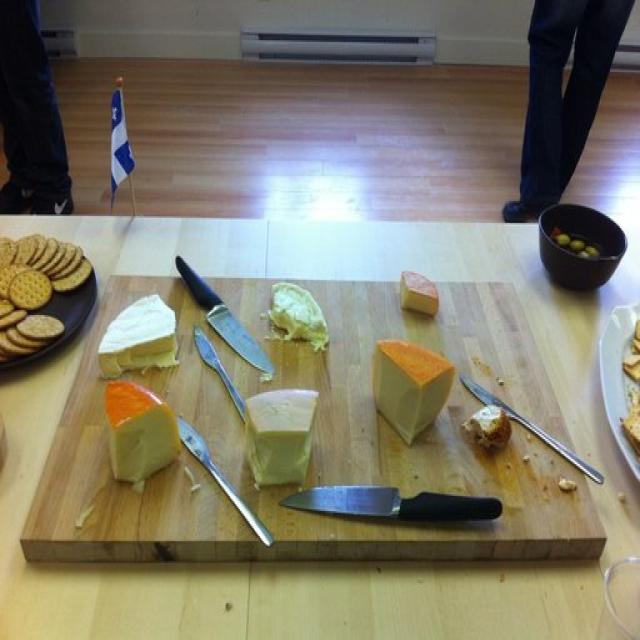cheese: (373, 337, 452, 449), (104, 382, 186, 488), (0, 236, 72, 350), (244, 395, 318, 486)
